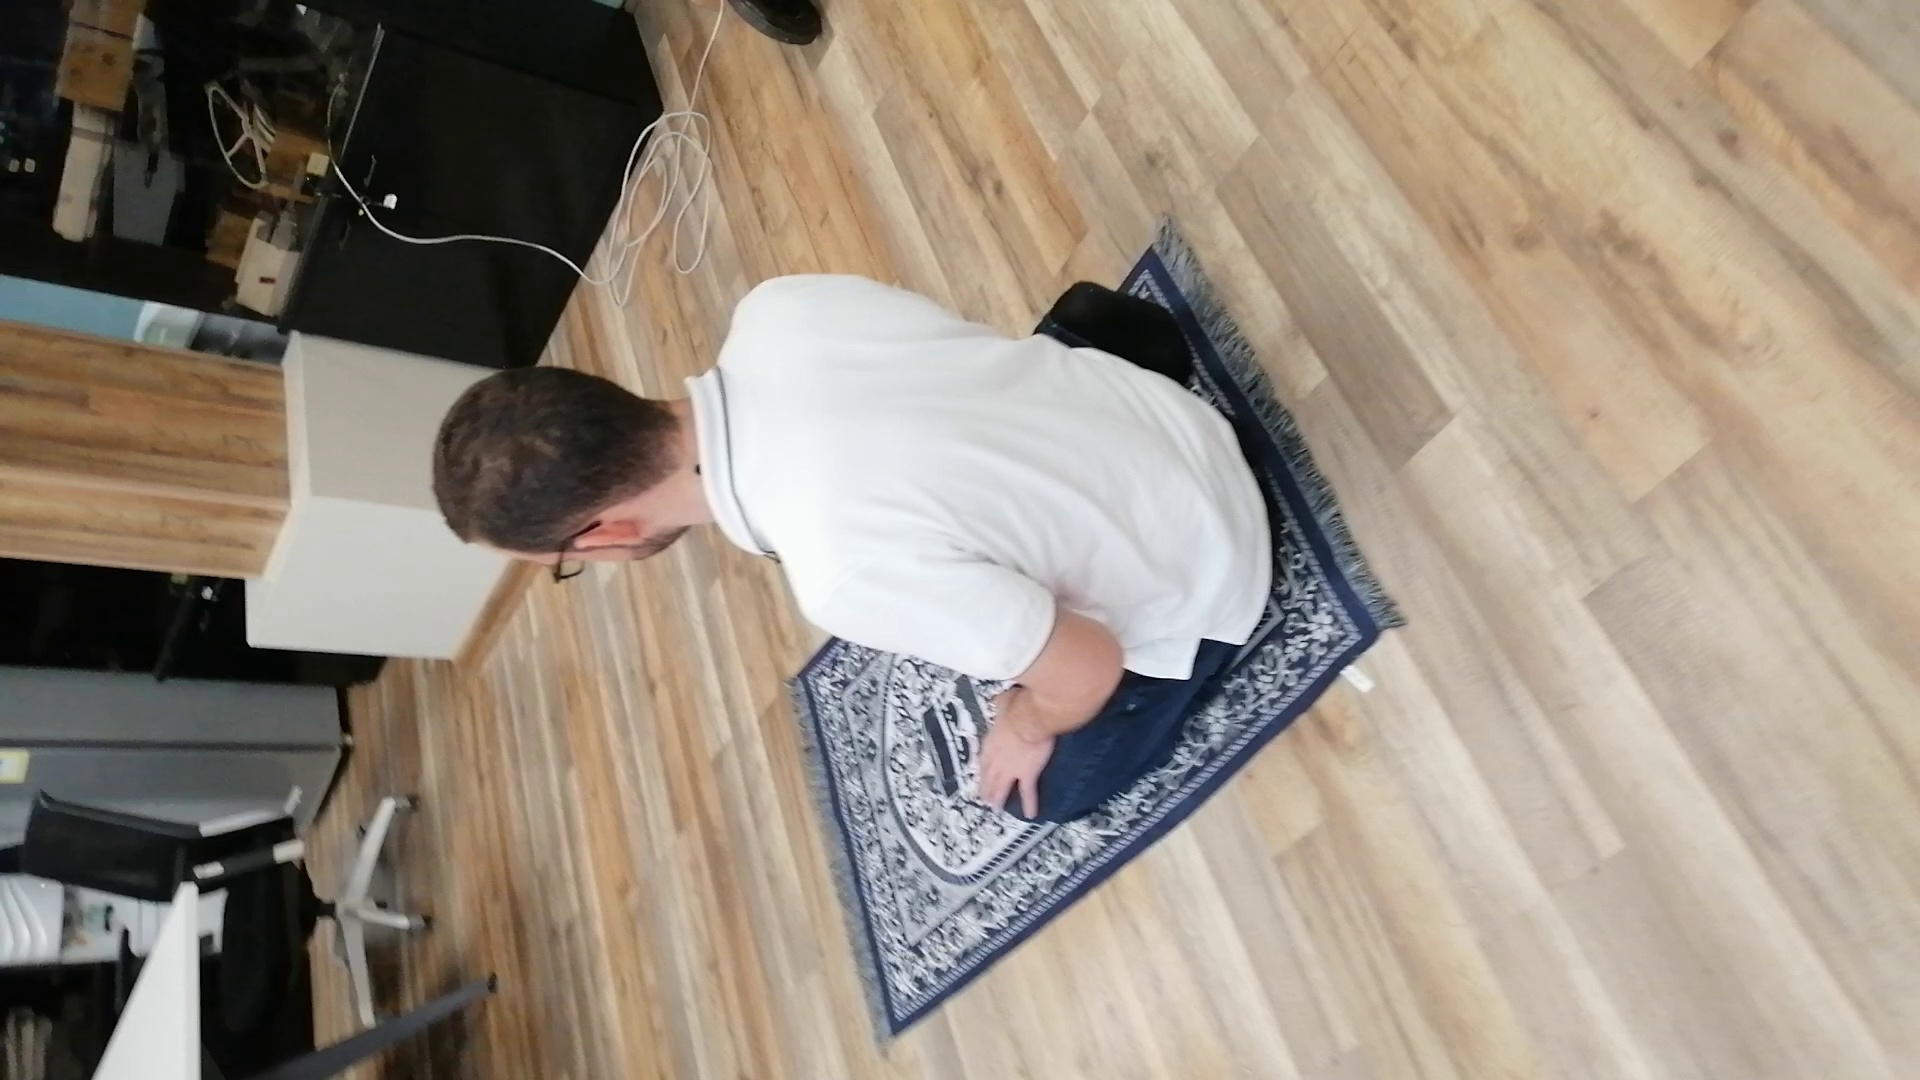sitting: (415, 261, 1295, 829)
